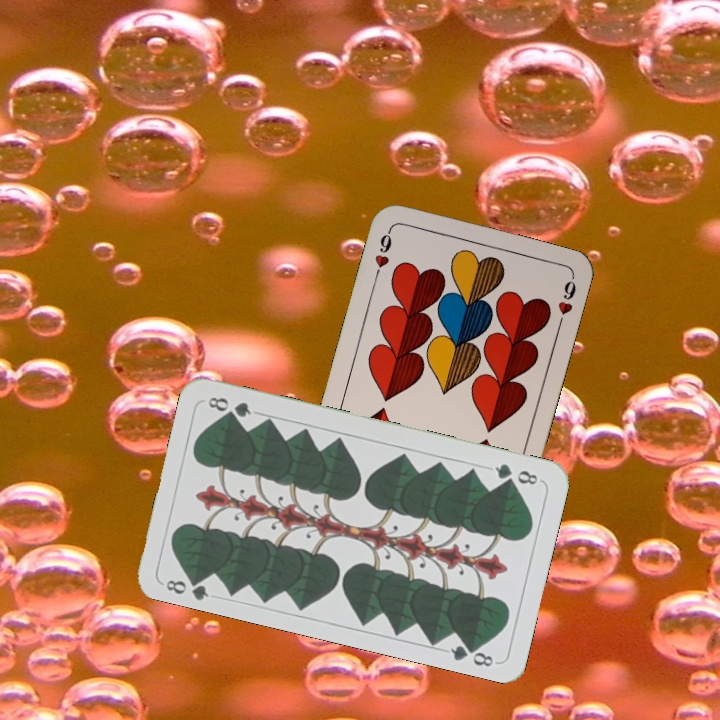G8: (162, 571, 212, 603), (490, 460, 541, 488)
H9: (370, 224, 395, 282)
